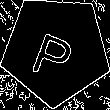P_N: (30, 20, 82, 80)
